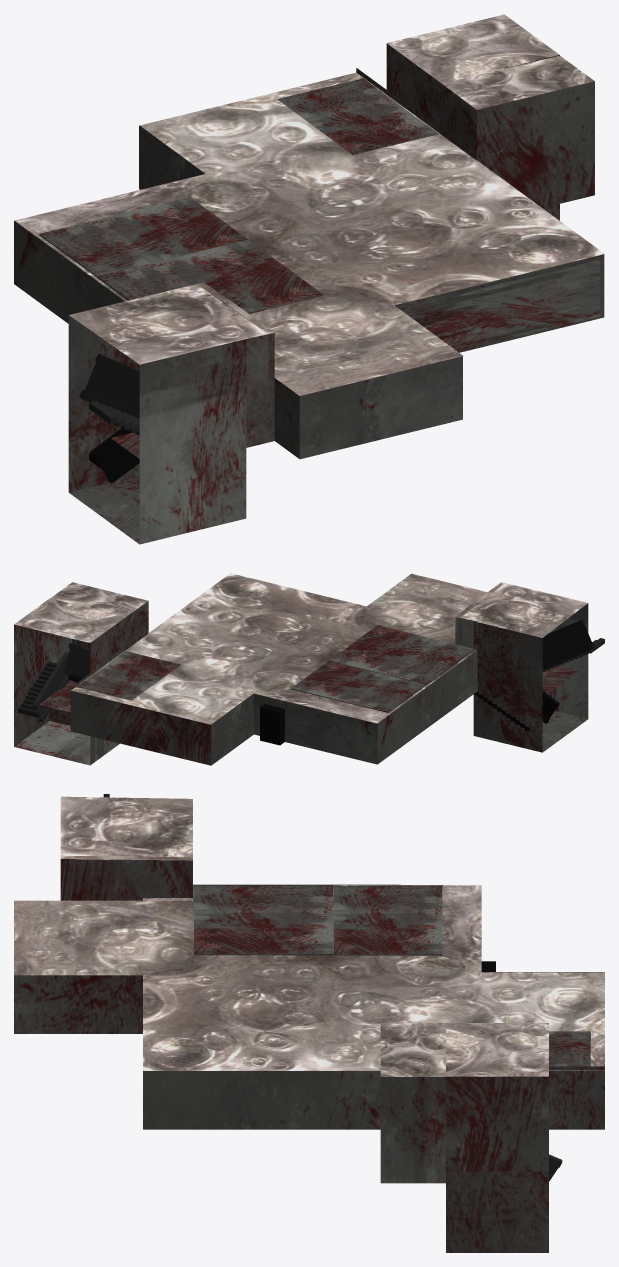
File: floor 4 uv warp all.glb
3 views of the same model, one above another, from view 1: azimuth 30°, elevation 25°; view 2: azimuth 150°, elevation 25°; view 3: azimuth 270°, elevation 25° (orthographic). The views are drawn at different scales.
Visible parts, largest first — view 1: Plane; view 2: Plane; view 3: Plane.
Boxes of the visible parts, x1,y1,x2,y2 form: Plane: [14, 14, 604, 544]; Plane: [14, 573, 604, 765]; Plane: [14, 794, 604, 1252].
Bounding box in the file's own units: 42.28 × 11.57 × 35.13.
13 materials, 4 textured.
